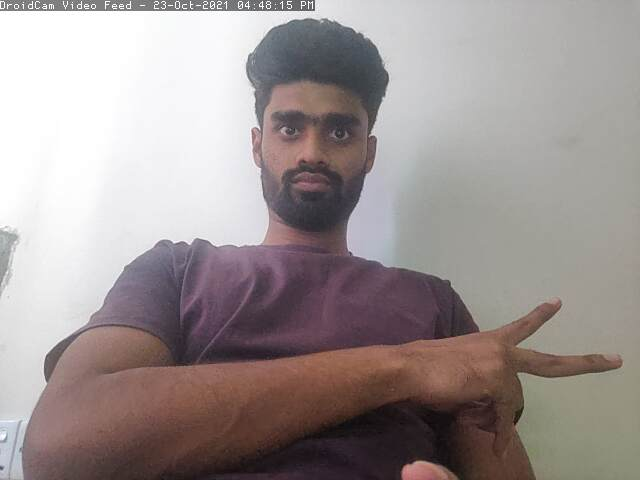Victory: (406, 296, 627, 461)
